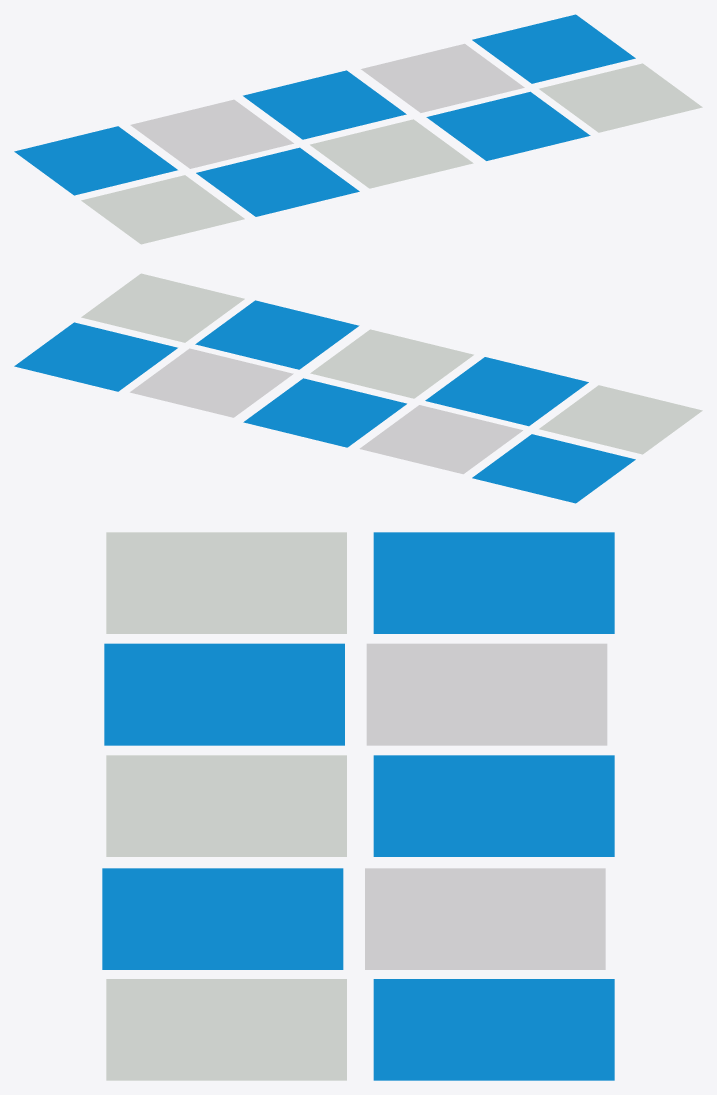
Rendered from audio_vis_compressed.glb.
3 renders of one model, top to bottom at view 1: azimuth 30°, elevation 25°; view 2: azimuth 150°, elevation 25°; view 3: azimuth 270°, elevation 25°, orthographic. The views are drawn at different scales.
Visible parts, largest first — view 1: Cube.002_5, Cube.001_4, Cube.004_7, Cube.002_5.001, Cube_0.001, Cube_0, Cube.004_7.001, Cube.003_6.001, Cube.003_6, Cube.001_4.001; view 2: Cube.003_6, Cube.002_5.001, Cube.002_5, Cube_0, Cube.004_7.001, Cube.004_7, Cube_0.001, Cube.003_6.001, Cube.001_4, Cube.001_4.001; view 3: Cube.001_4.001, Cube.001_4, Cube.002_5, Cube.003_6, Cube.004_7, Cube_0, Cube.002_5.001, Cube.004_7.001, Cube_0.001, Cube.003_6.001.
Part boxes in pixels (left/top/right/bottom): Cube.002_5: left=243, top=70, right=406, bottom=139; Cube.001_4: left=196, top=147, right=359, bottom=216; Cube.004_7: left=472, top=14, right=635, bottom=83; Cube.002_5.001: left=310, top=119, right=473, bottom=188; Cube_0.001: left=81, top=175, right=244, bottom=244; Cube_0: left=14, top=126, right=177, bottom=195; Cube.004_7.001: left=539, top=63, right=702, bottom=132; Cube.003_6.001: left=361, top=43, right=524, bottom=112; Cube.003_6: left=426, top=91, right=590, bottom=160; Cube.001_4.001: left=130, top=99, right=293, bottom=168; Cube.003_6: left=195, top=300, right=359, bottom=369; Cube.002_5.001: left=310, top=329, right=473, bottom=398; Cube.002_5: left=243, top=378, right=406, bottom=447; Cube_0: left=472, top=434, right=635, bottom=503; Cube.004_7.001: left=81, top=273, right=244, bottom=342; Cube.004_7: left=14, top=322, right=177, bottom=391; Cube_0.001: left=539, top=385, right=702, bottom=454; Cube.003_6.001: left=130, top=348, right=293, bottom=417; Cube.001_4: left=425, top=357, right=588, bottom=426; Cube.001_4.001: left=359, top=405, right=522, bottom=474; Cube.001_4.001: left=366, top=643, right=607, bottom=745; Cube.001_4: left=104, top=643, right=344, bottom=745; Cube.002_5: left=373, top=755, right=614, bottom=856; Cube.003_6: left=102, top=868, right=343, bottom=969; Cube.004_7: left=373, top=979, right=614, bottom=1080; Cube_0: left=373, top=532, right=614, bottom=633; Cube.002_5.001: left=106, top=755, right=346, bottom=856; Cube.004_7.001: left=106, top=979, right=346, bottom=1080; Cube_0.001: left=106, top=532, right=346, bottom=633; Cube.003_6.001: left=365, top=868, right=605, bottom=969.
Size of the model in its own units: 2.16 by 2.68e-09 by 0.8507.
